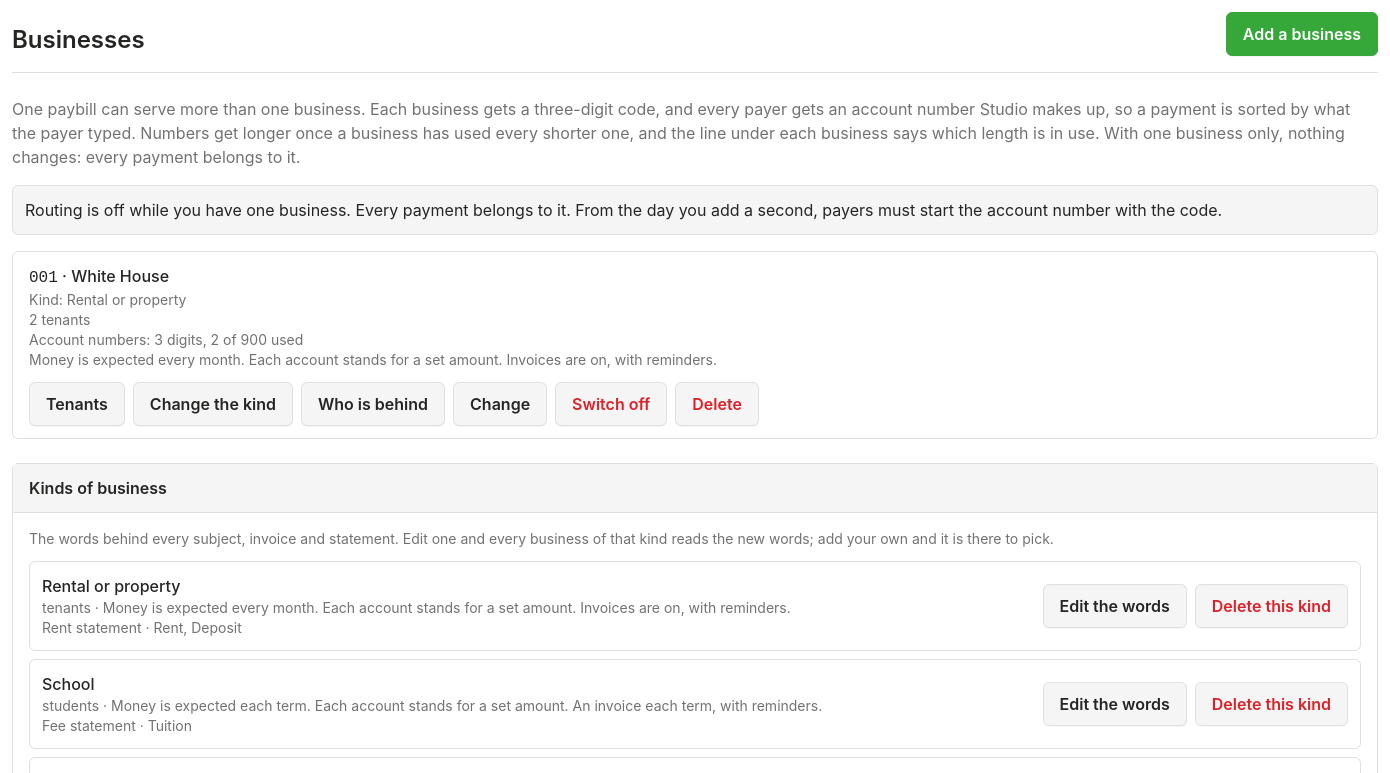
it: who is behind, on the Businesses page › lists each account with how far behind it is, and links to its statement
Click the button "Who is behind".
click(373, 404)  # box 301,382 -> 445,426
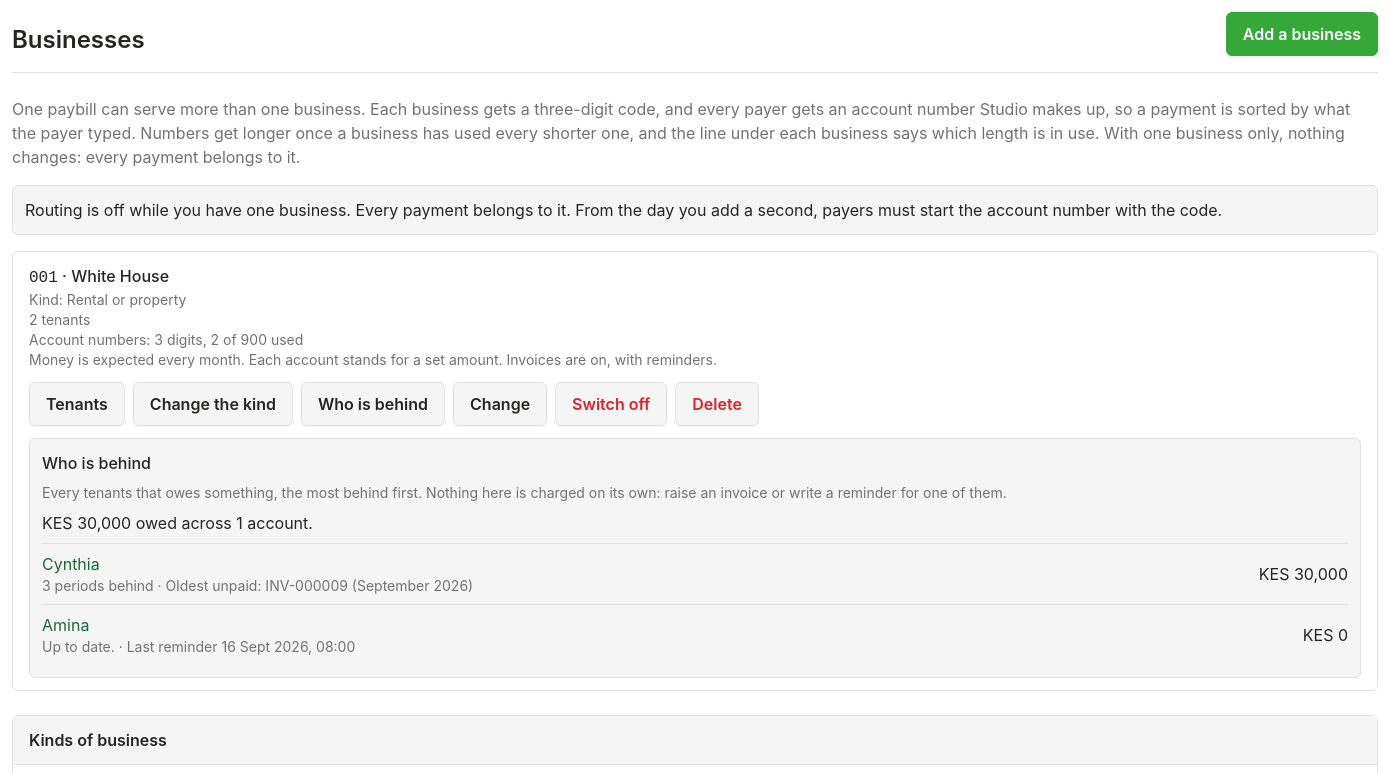
Now the list item with test id "arrears-row-a2" shows "Up to date.", box 42,638 -> 115,655
